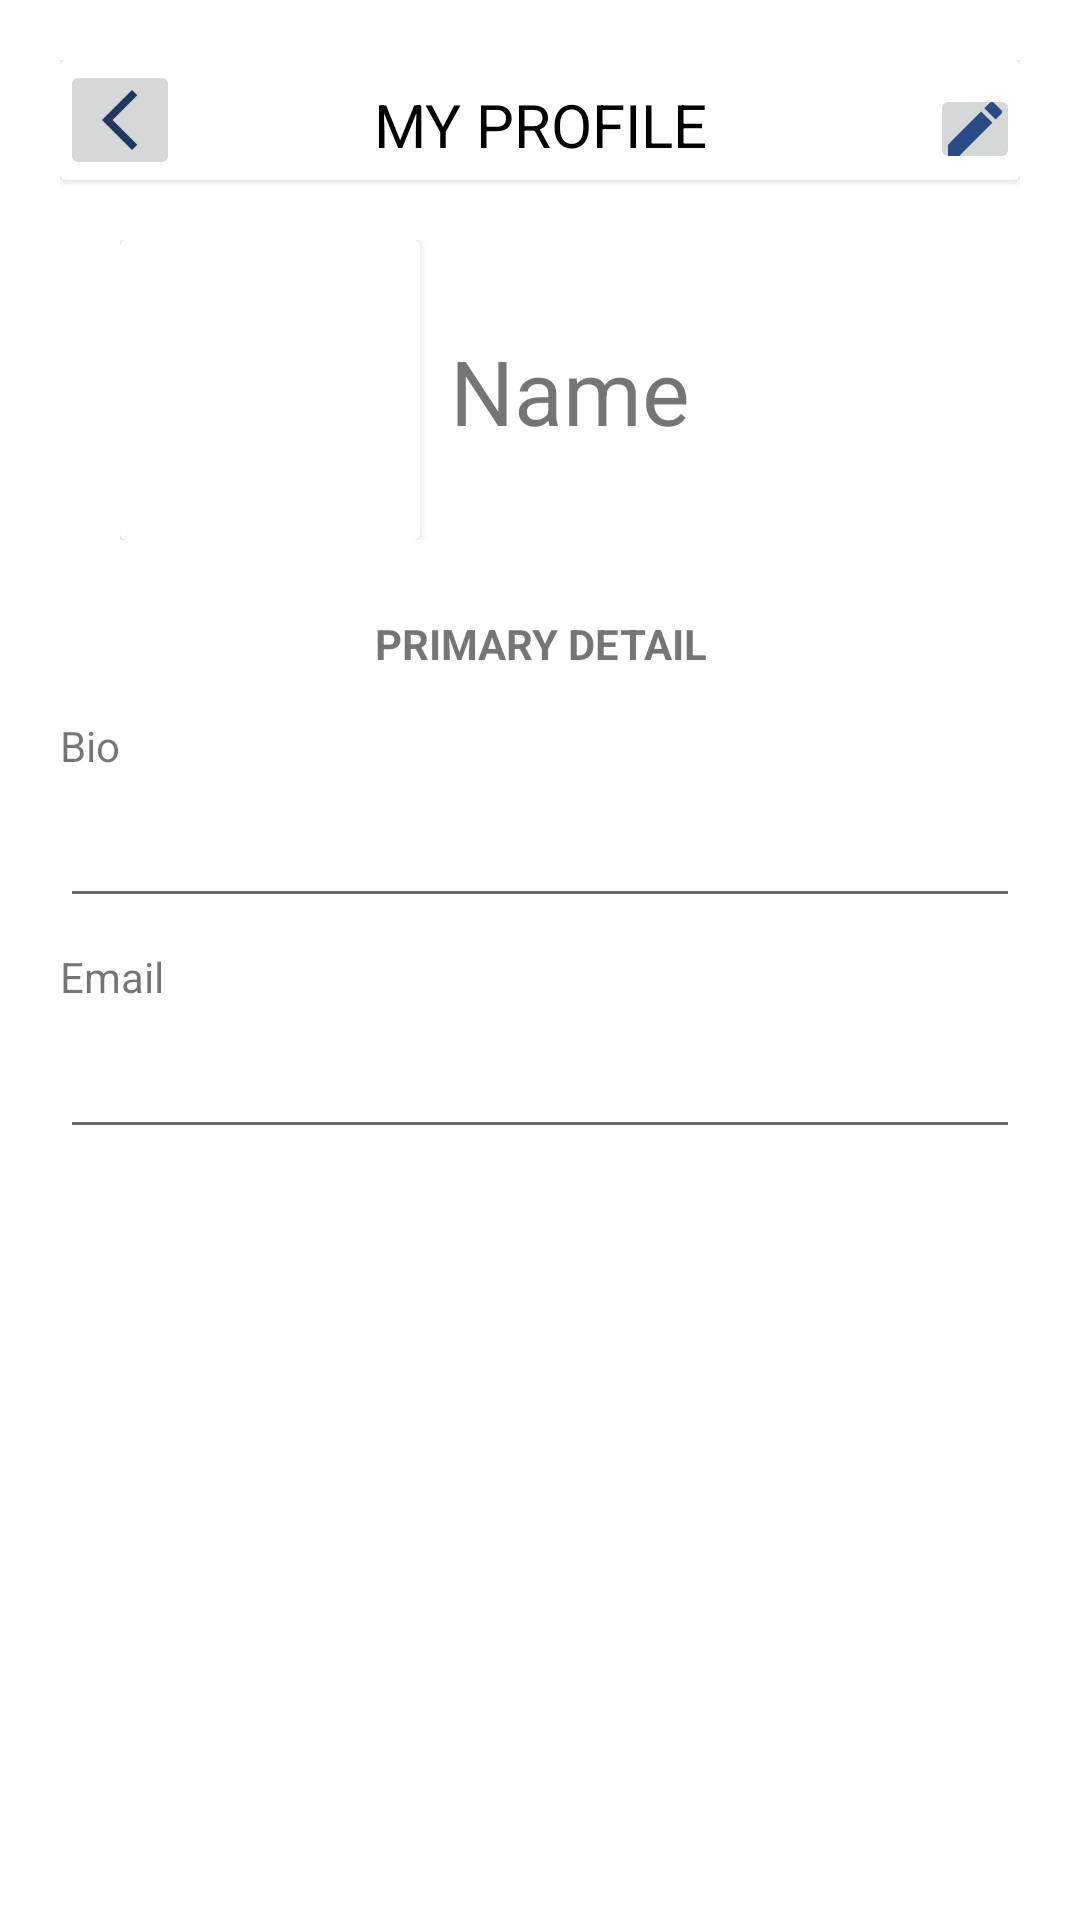

Named icons in this screenshot (1080px×1920px) and their bounding boxes, (x1, y1, x2, y2):
edit: (942, 102, 1008, 156)
keyboard arrow left: (60, 78, 168, 180)
